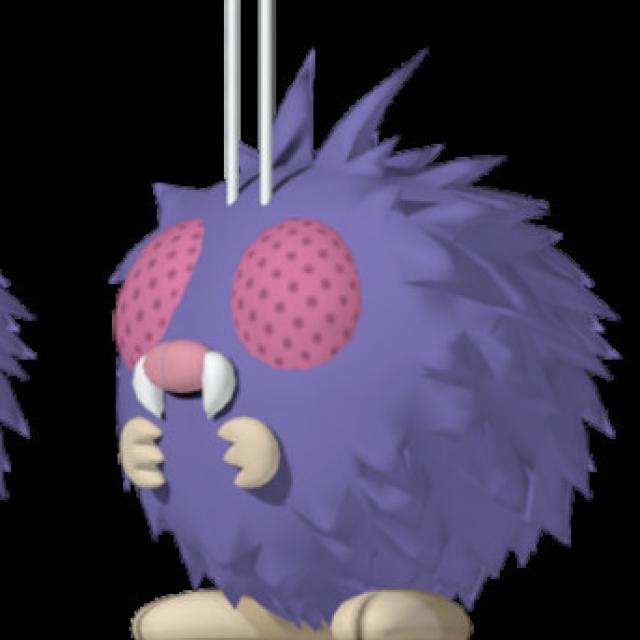Venonat: (85, 97, 618, 640)
